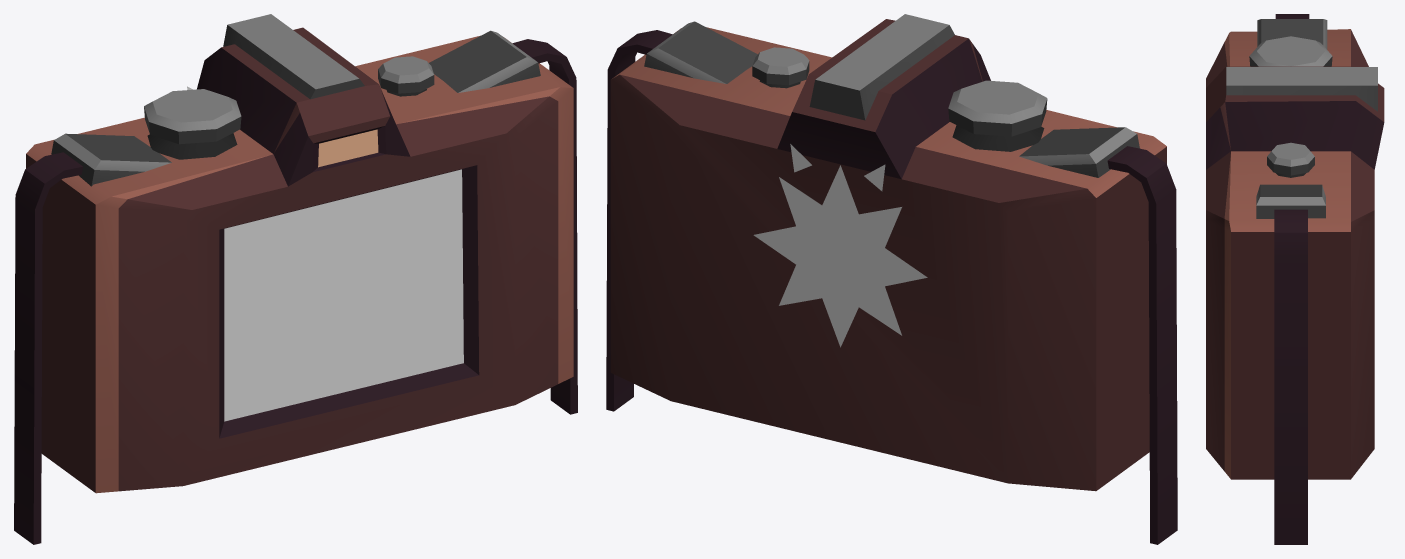
Rendered from Camera.fbx.
3 renders of one model, left to right at view 1: azimuth 30°, elevation 25°; view 2: azimuth 150°, elevation 25°; view 3: azimuth 270°, elevation 25°, orthographic. The views are drawn at different scales.
Parts seen in each view (by area): view 1: Camera; view 2: Camera, Flash; view 3: Camera.
Boxes of the visible parts, x1,y1,x2,y2 form: Camera: [14, 14, 577, 544]; Camera: [606, 14, 1177, 544]; Flash: [753, 144, 927, 347]; Camera: [1206, 14, 1384, 544].
Size of the model in its own units: 98.94 by 72.15 by 33.92.
